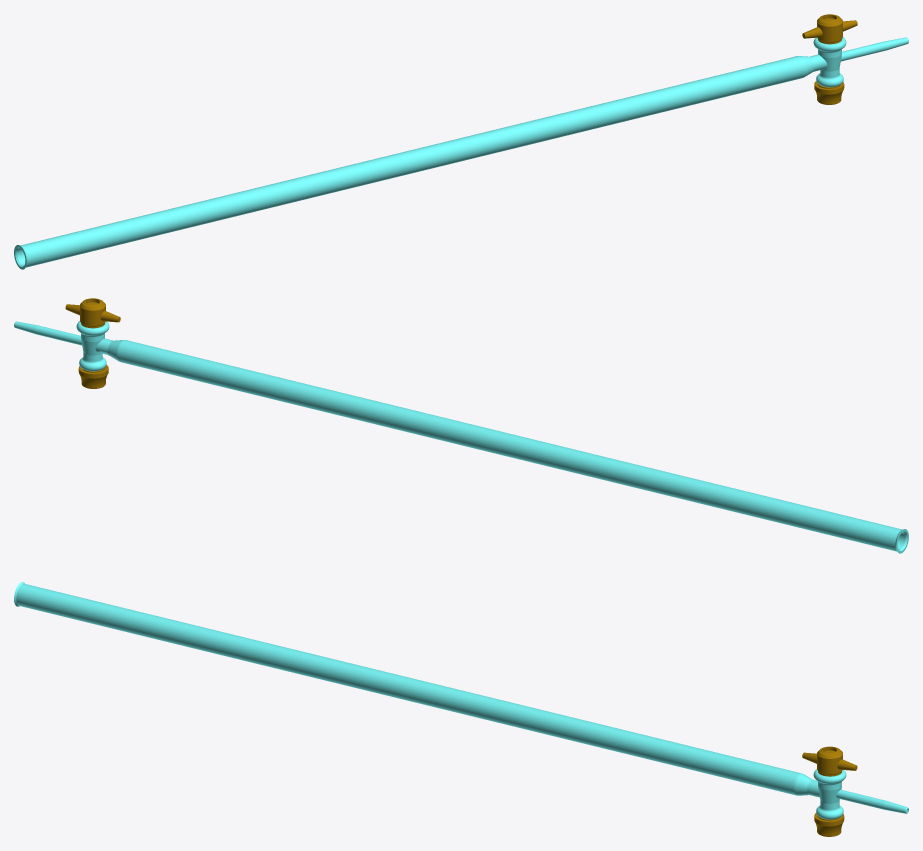
3 views of the same model, one above another, from view 1: azimuth 30°, elevation 25°; view 2: azimuth 150°, elevation 25°; view 3: azimuth 330°, elevation 25° (orthographic).
Visible parts, largest first — view 1: group_0.006, group_0.002, group_0.003, group_0.004; view 2: group_0.006, group_0.002, group_0.003, group_0.004; view 3: group_0.006, group_0.002, group_0.004, group_0.003.
Part boxes in pixels (left/top/right/bottom): group_0.006: left=14, top=54, right=827, bottom=269; group_0.002: left=813, top=37, right=846, bottom=87; group_0.003: left=817, top=14, right=842, bottom=44; group_0.004: left=840, top=37, right=908, bottom=61; group_0.006: left=95, top=338, right=908, bottom=553; group_0.002: left=76, top=321, right=109, bottom=371; group_0.003: left=80, top=298, right=105, bottom=328; group_0.004: left=14, top=321, right=82, bottom=345; group_0.006: left=14, top=582, right=819, bottom=797; group_0.002: left=813, top=769, right=846, bottom=819; group_0.004: left=836, top=789, right=908, bottom=813; group_0.003: left=817, top=746, right=842, bottom=776.
Size of the model in its own units: 7752 by 685 by 249.
